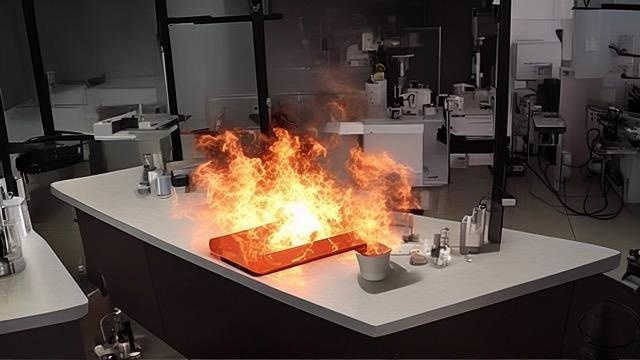fire: (196, 98, 422, 290)
